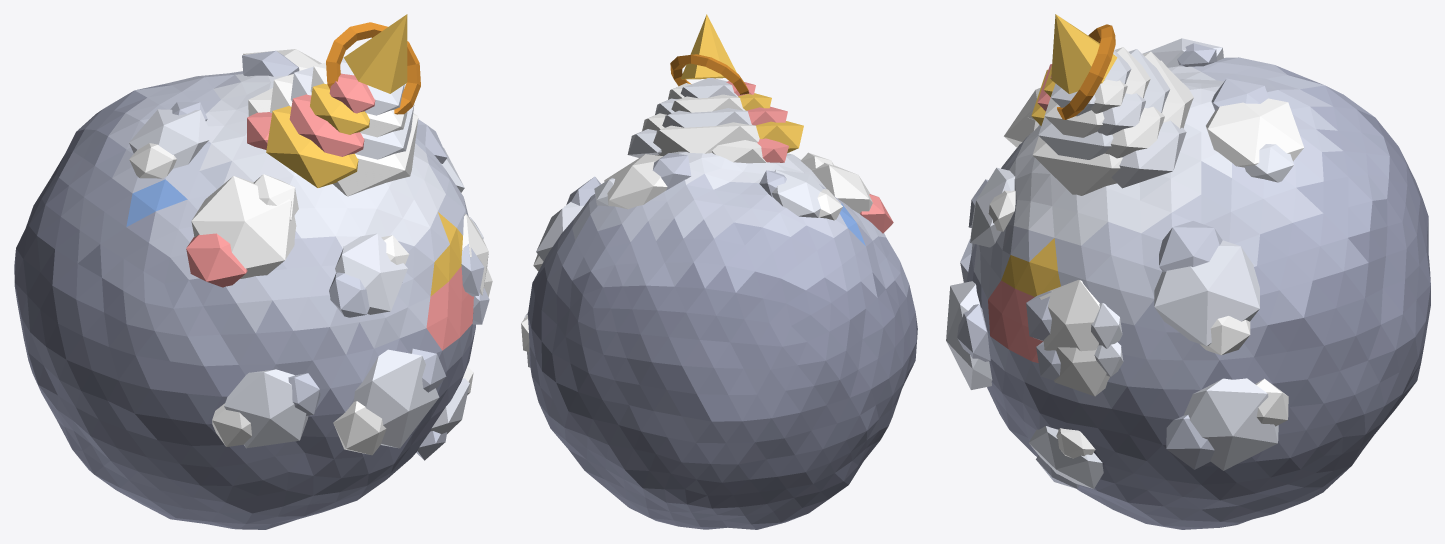
Rendered from Cloud_06.fbx.
The picture shows the model from 3 angles, left to right: view 1: azimuth 30°, elevation 25°; view 2: azimuth 150°, elevation 25°; view 3: azimuth 270°, elevation 25°; orthographic projection. The views are drawn at different scales.
Visible parts, largest first — view 1: Cloud_06; view 2: Cloud_06; view 3: Cloud_06.
Part boxes in pixels (left/top/right/bottom): Cloud_06: left=14, top=14, right=492, bottom=529; Cloud_06: left=521, top=14, right=917, bottom=529; Cloud_06: left=946, top=14, right=1430, bottom=529.
Size of the model in its own units: 6.28 by 7.6 by 6.21.
Materials: 1 (1 with a texture image).
